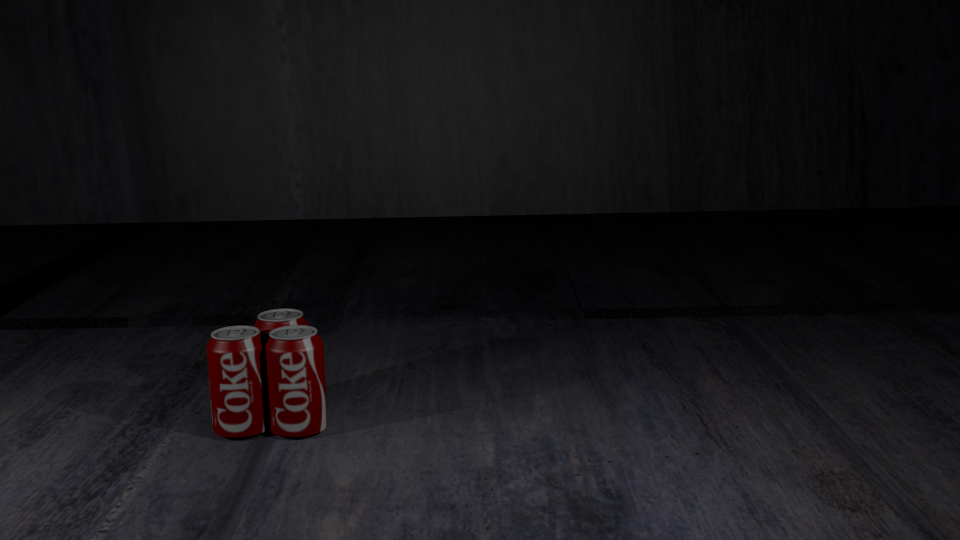cola_can: (207, 326, 267, 434), (265, 325, 325, 433), (254, 309, 307, 412)
